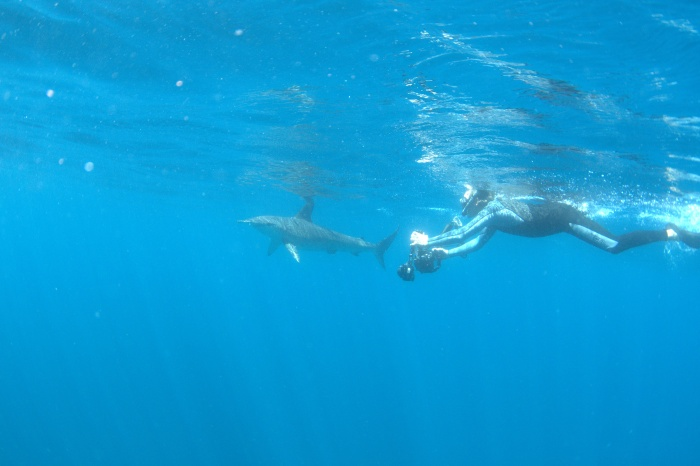Hammer: (216, 188, 405, 285)
